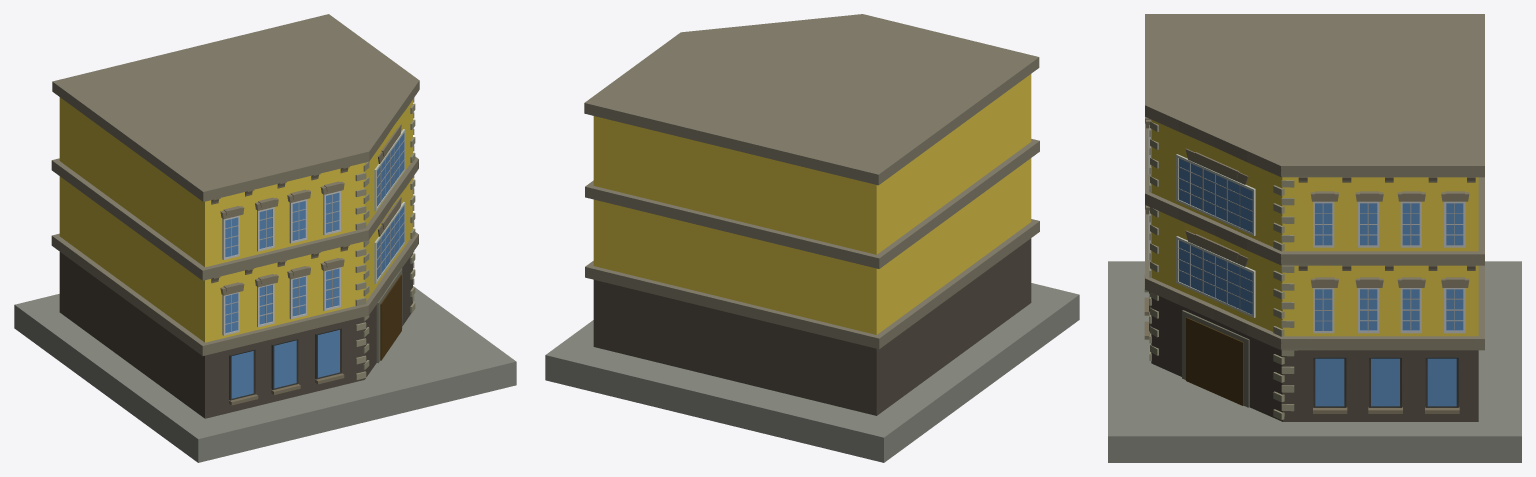
The picture shows the model from 3 angles, left to right: view 1: azimuth 30°, elevation 25°; view 2: azimuth 150°, elevation 25°; view 3: azimuth 270°, elevation 25°; orthographic projection. The views are drawn at different scales.
Visible parts, largest first — view 1: pCube5, pCube2, pCube1, pCube77, pCube4, pCube3, pCube121, pCube98, pCube99, pCube93, pCube92, pCube94 (+4 smaller); view 2: pCube2, pCube5, pCube77, pCube1, pCube3, pCube4; view 3: pCube5, pCube1, pCube2, pCube77, pCube4, pCube3, pCube121, pCube98, pCube99, pCube89, pCube91, pCube90 (+13 smaller).
Part boxes in pixels (x1,y1,x2,y2): pCube5: (52, 14, 419, 201); pCube2: (59, 97, 412, 342); pCube1: (14, 286, 516, 462); pCube77: (59, 252, 412, 418); pCube4: (51, 156, 418, 280); pCube3: (51, 232, 418, 355); pCube121: (380, 274, 401, 360); pCube98: (377, 133, 404, 206); pCube99: (377, 205, 404, 279); pCube93: (274, 340, 296, 388); pCube92: (231, 351, 253, 398); pCube94: (317, 330, 339, 377); pCube2: (593, 74, 1031, 334); pCube5: (584, 14, 1039, 185); pCube77: (593, 238, 1031, 415); pCube1: (545, 283, 1079, 462); pCube3: (585, 219, 1039, 349); pCube4: (585, 139, 1039, 268); pCube5: (1145, 14, 1484, 177); pCube1: (1108, 261, 1521, 462); pCube2: (1151, 119, 1478, 336); pCube77: (1151, 296, 1478, 421); pCube4: (1145, 123, 1484, 265); pCube3: (1145, 209, 1484, 350); pCube121: (1186, 317, 1243, 405); pCube98: (1179, 158, 1252, 232); pCube99: (1179, 240, 1252, 314); pCube89: (1315, 358, 1344, 406); pCube91: (1427, 358, 1456, 406); pCube90: (1371, 358, 1399, 406).
Size of the model in its own units: 385 by 293 by 385.
